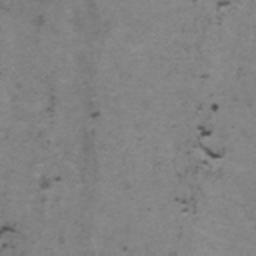Oxide scale of temperature system: (191, 100, 224, 178), (82, 109, 102, 152), (38, 173, 63, 205), (0, 223, 22, 250), (175, 196, 197, 215), (40, 95, 58, 116), (31, 12, 47, 31), (214, 0, 230, 9), (198, 72, 210, 79), (122, 243, 128, 251)
